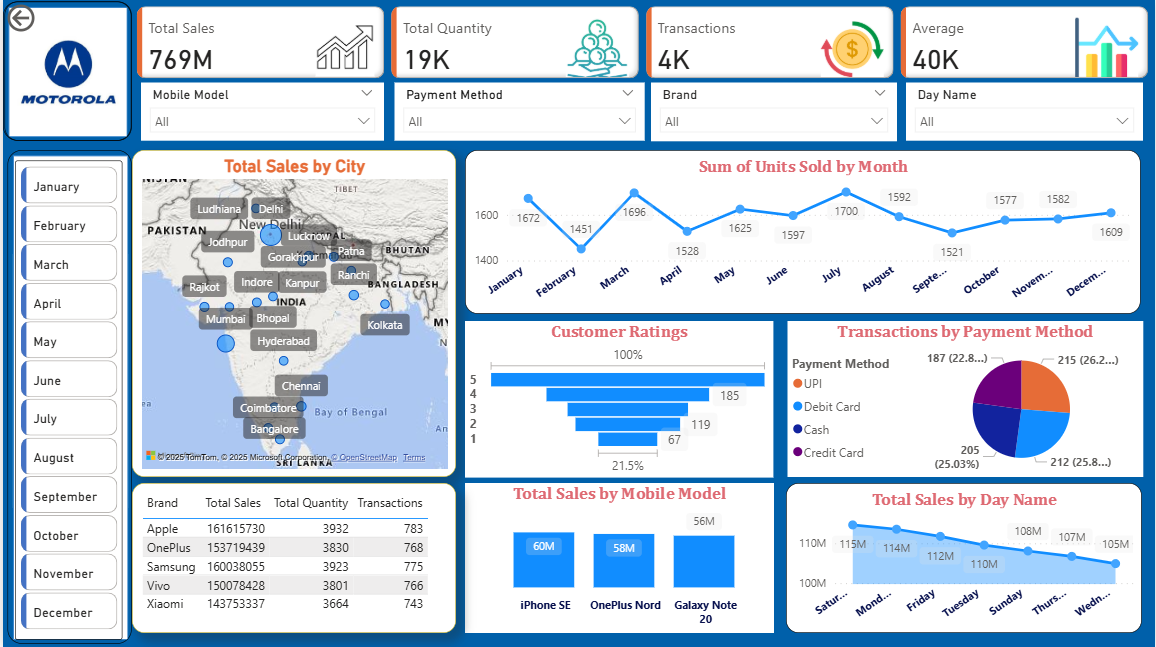

Layout of this report page (visuals, bound fields, positions):
{"tool":"powerbi","page":{"name":"Page 1","canvas":[1280,720],"ordinal":0},"visuals":[{"type":"shape","box":[0,1.4,142.5,154.8],"z":0},{"type":"image","box":[1.4,1.4,141.1,154.8],"z":1000},{"type":"shape","box":[4.8,166.9,138.3,548.3],"z":2000},{"type":"advancedSlicerVisual","fields":{"Values":["Sheet1.Date.Variation.Date Hierarchy.Month"]},"box":[13.7,178.1,119.2,532.9],"z":3000},{"type":"cardVisual","fields":{"Data":["Sales_Data.Total Sales","Sales_Data.Total Quantity","Sales_Data.Transactions","Sales_Data.Average"]},"box":[143.3,1.7,1136.7,90],"z":4000},{"type":"map","fields":{"Category":["Sales_Data.City"],"Size":["Sales_Data.Total Sales"]},"box":[143.8,167.1,360.3,363],"z":5000},{"type":"lineChart","fields":{"Y":["Sum(Sales_Data.Units Sold)"],"Category":["Sales_Data.Date.Variation.Date Hierarchy.Month","Sales_Data.Date.Variation.Date Hierarchy.Day"]},"box":[513.7,167.1,750.7,182.2],"z":6000},{"type":"clusteredColumnChart","fields":{"Category":["Sales_Data.Mobile Model"],"Y":["Sales_Data.Total Sales"]},"box":[513.3,536.7,343.3,166.7],"z":7000},{"type":"pieChart","fields":{"Y":["Sales_Data.Transactions"],"Category":["Sales_Data.Payment Method"]},"box":[871.7,356.7,395,173.3],"z":8000},{"type":"funnel","title":"Customer Ratings","fields":{"Category":["Sales_Data.Customer Ratings"],"Y":["CountNonNull(Sales_Data.Customer Ratings)"]},"box":[513.7,356.2,342.5,174],"z":9000},{"type":"areaChart","fields":{"Category":["Sales_Data.Day Name"],"Y":["Sales_Data.Total Sales"]},"box":[870,536.7,395,166.7],"z":10000},{"type":"tableEx","fields":{"Values":["Sales_Data.Brand","Sales_Data.Total Sales","Sales_Data.Total Quantity","Sales_Data.Transactions"]},"box":[143.3,536.7,360,166.7],"z":11000},{"type":"actionButton","box":[0,0,100,40],"z":12000},{"type":"slicer","fields":{"Values":["Sales_Data.Mobile Model"]},"box":[153.4,91.8,269.9,64.4],"z":13000},{"type":"slicer","fields":{"Values":["Sales_Data.Payment Method"]},"box":[434.2,91.8,278.1,64.4],"z":14000},{"type":"slicer","fields":{"Values":["Sales_Data.Brand"]},"box":[720,91.7,273.3,65],"z":15000},{"type":"slicer","fields":{"Values":["Sales_Data.Day Name"]},"box":[1004.1,91.8,263,64.4],"z":16000}]}

Visuals, with their boxes in screenshot pixels (x1, y1, x2, y2), scaled from the page's 1280x720 canvas onto the 1156x647 screenshot:
shape: {"left": 0, "top": 1, "right": 129, "bottom": 140}
image: {"left": 1, "top": 1, "right": 129, "bottom": 140}
shape: {"left": 4, "top": 150, "right": 129, "bottom": 643}
advancedSlicerVisual - Sheet1.Date.Variation.Date Hierarchy.Month: {"left": 12, "top": 160, "right": 120, "bottom": 639}
cardVisual - Sales_Data.Total Sales x Sales_Data.Total Quantity: {"left": 129, "top": 2, "right": 1155, "bottom": 82}
map - Sales_Data.City x Sales_Data.Total Sales: {"left": 130, "top": 150, "right": 455, "bottom": 476}
lineChart - Sum(Sales_Data.Units Sold) x Sales_Data.Date.Variation.Date Hierarchy.Month: {"left": 464, "top": 150, "right": 1142, "bottom": 314}
clusteredColumnChart - Sales_Data.Mobile Model x Sales_Data.Total Sales: {"left": 464, "top": 482, "right": 774, "bottom": 632}
pieChart - Sales_Data.Transactions x Sales_Data.Payment Method: {"left": 787, "top": 321, "right": 1144, "bottom": 476}
"Customer Ratings" funnel: {"left": 464, "top": 320, "right": 773, "bottom": 476}
areaChart - Sales_Data.Day Name x Sales_Data.Total Sales: {"left": 786, "top": 482, "right": 1142, "bottom": 632}
tableEx - Sales_Data.Brand x Sales_Data.Total Sales: {"left": 129, "top": 482, "right": 455, "bottom": 632}
actionButton: {"left": 0, "top": 0, "right": 90, "bottom": 36}
slicer - Sales_Data.Mobile Model: {"left": 139, "top": 82, "right": 382, "bottom": 140}
slicer - Sales_Data.Payment Method: {"left": 392, "top": 82, "right": 643, "bottom": 140}
slicer - Sales_Data.Brand: {"left": 650, "top": 82, "right": 897, "bottom": 141}
slicer - Sales_Data.Day Name: {"left": 907, "top": 82, "right": 1144, "bottom": 140}
